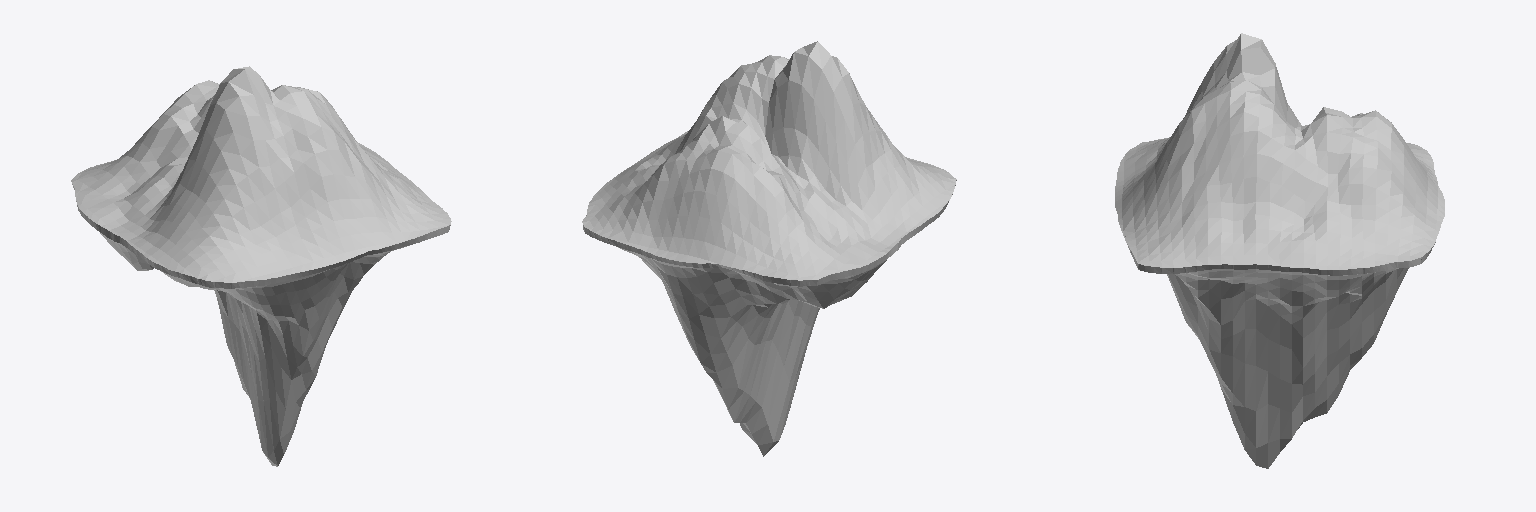
File: island1_lod3.obj
The picture shows the model from 3 angles: view 1: azimuth 30°, elevation 25°; view 2: azimuth 150°, elevation 25°; view 3: azimuth 270°, elevation 25°; orthographic projection.
Visible parts, largest first — view 1: Terrain.3+Rock.3; view 2: Terrain.3+Rock.3; view 3: Terrain.3+Rock.3.
Part boxes in pixels (x1,y1,x2,y2): Terrain.3+Rock.3: (71,66,451,466); Terrain.3+Rock.3: (582,41,956,456); Terrain.3+Rock.3: (1115,33,1444,468).
Bounding box in the file's own units: 55.01 × 78.2 × 56.33.